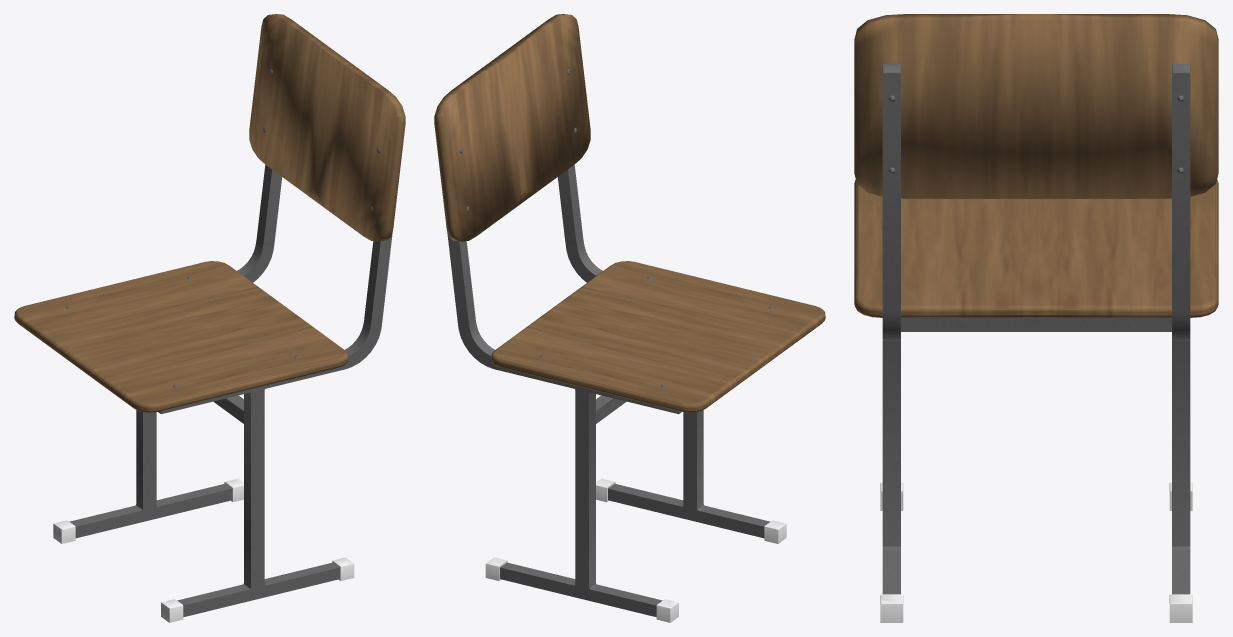
The model's file is School chair.glb.
3 renders of one model, left to right at view 1: azimuth 30°, elevation 25°; view 2: azimuth 150°, elevation 25°; view 3: azimuth 270°, elevation 25°, orthographic. The views are drawn at different scales.
Visible parts, largest first — view 1: Chair.001; view 2: Chair.001; view 3: Chair.001.
Part boxes in pixels (x1,y1,x2,y2): Chair.001: [14, 14, 405, 622]; Chair.001: [434, 14, 825, 622]; Chair.001: [854, 14, 1218, 622].
Bounding box in the file's own units: 0.4643 × 0.7664 × 0.4.
3 materials, 2 textured.
